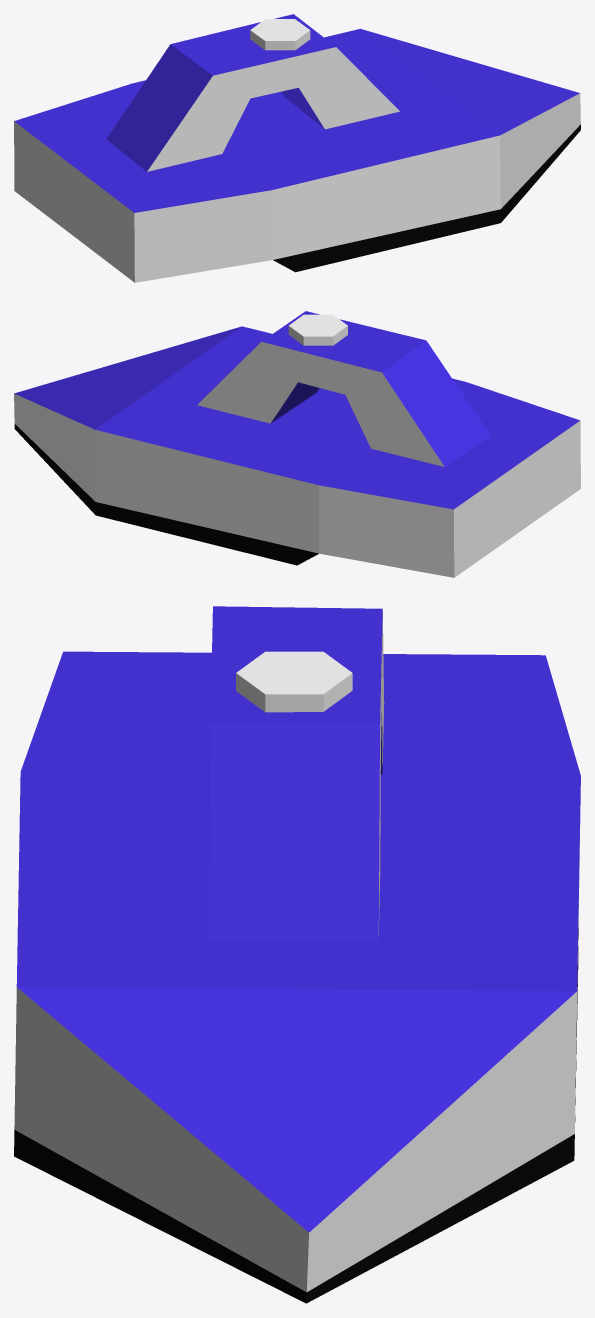
The model's file is ferrodepassar.fbx.
3 views of the same model, one above another, from view 1: azimuth 30°, elevation 25°; view 2: azimuth 150°, elevation 25°; view 3: azimuth 270°, elevation 25° (orthographic). The views are drawn at different scales.
Parts seen in each view (by area): view 1: Cube; view 2: Cube; view 3: Cube.
Part boxes in pixels (left/top/right/bottom): Cube: left=14, top=14, right=580, bottom=282; Cube: left=14, top=311, right=580, bottom=577; Cube: left=14, top=606, right=580, bottom=1303.
Bounding box in the file's own units: 1.09 × 0.3594 × 0.539.
